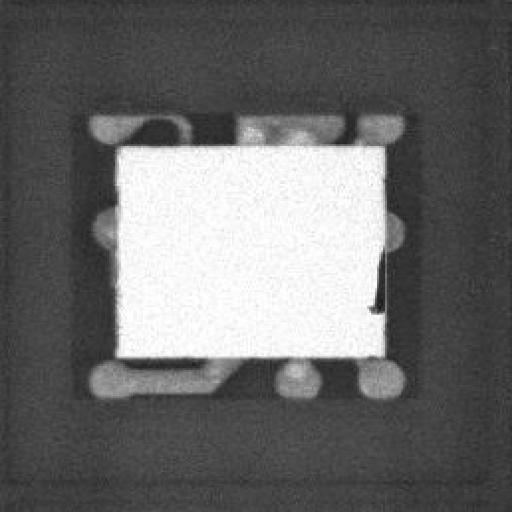DIE_BROKEN: (363, 250, 387, 315)
